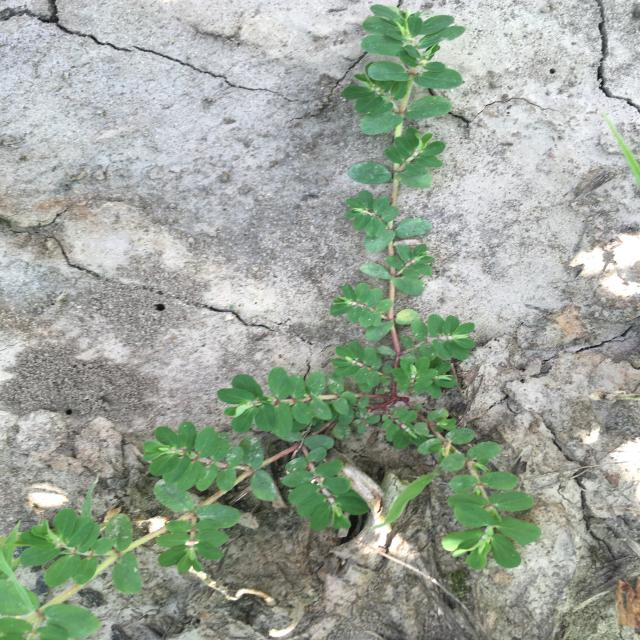SpottedSpurge: (0, 4, 541, 640)
